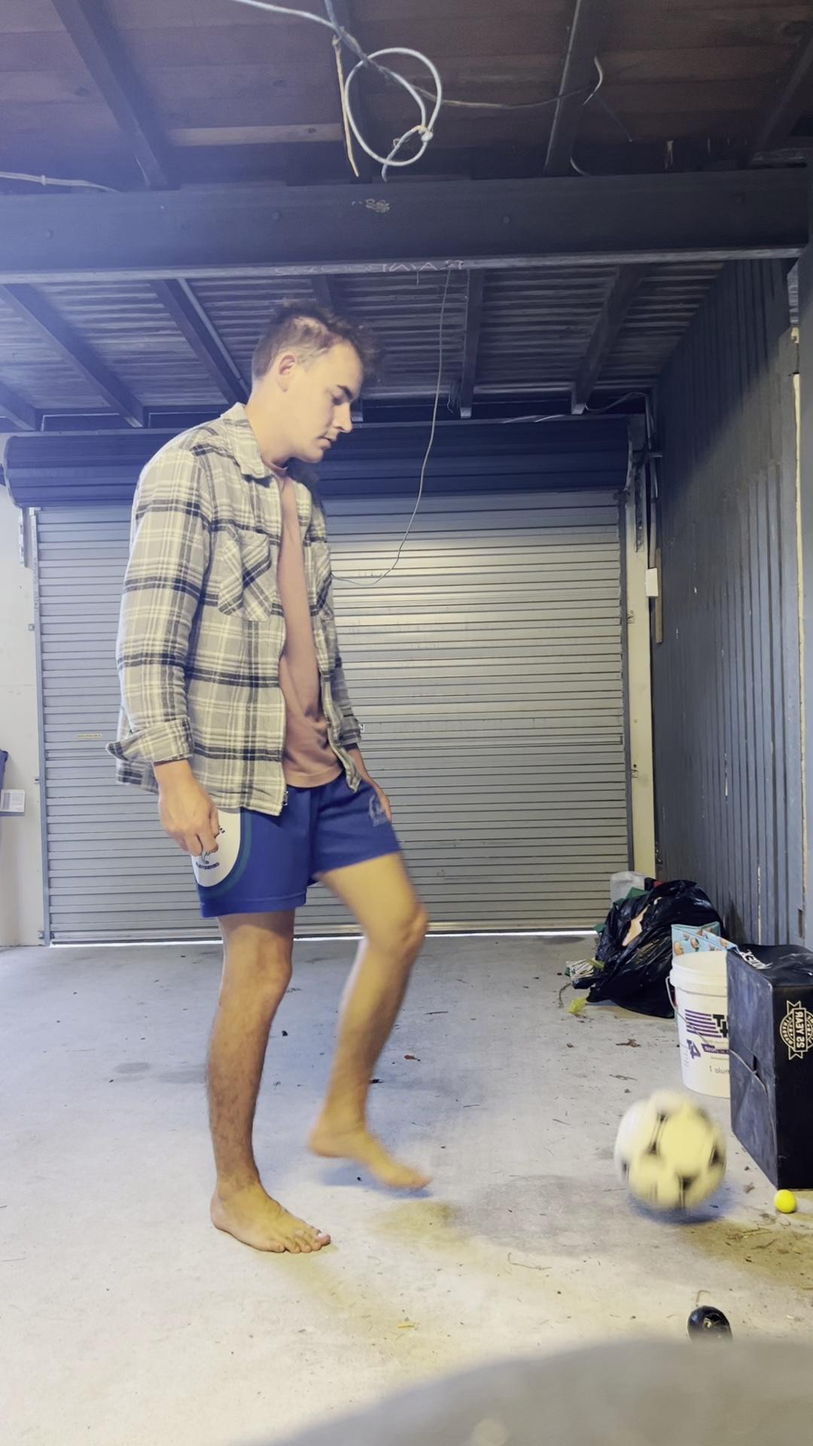ball: (615, 1093, 726, 1218)
foot: (302, 1108, 433, 1198), (205, 1180, 328, 1260)
person: (116, 307, 427, 1251)
